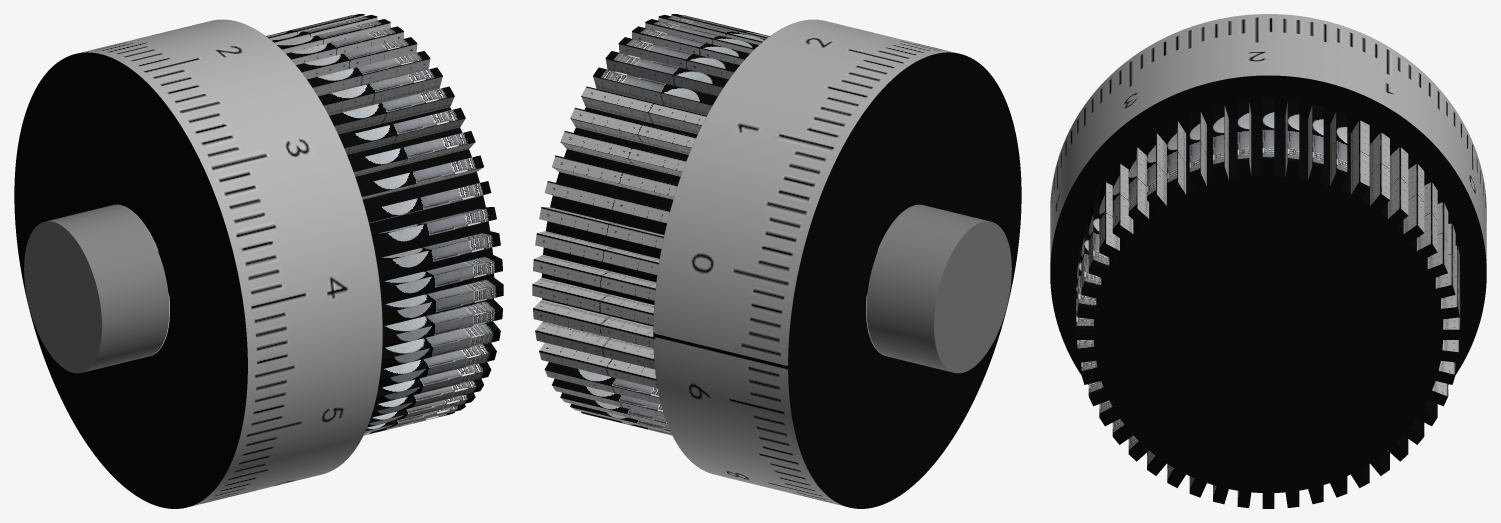
File: Spain_small.fbx
The picture shows the model from 3 angles, left to right: view 1: azimuth 30°, elevation 25°; view 2: azimuth 150°, elevation 25°; view 3: azimuth 270°, elevation 25°; orthographic projection. The views are drawn at different scales.
Visible parts, largest first — view 1: Spain_small, 对象004; view 2: Spain_small, 对象004; view 3: Spain_small.
Part boxes in pixels (x1,y1,x2,y2): Spain_small: (14, 14, 503, 508); 对象004: (24, 204, 169, 373); Spain_small: (532, 14, 1021, 508); 对象004: (866, 204, 1011, 373); Spain_small: (1050, 14, 1486, 508).
Bounding box in the file's own units: 3.94 × 4.71 × 4.71.
Materials: 2 (1 with a texture image).
